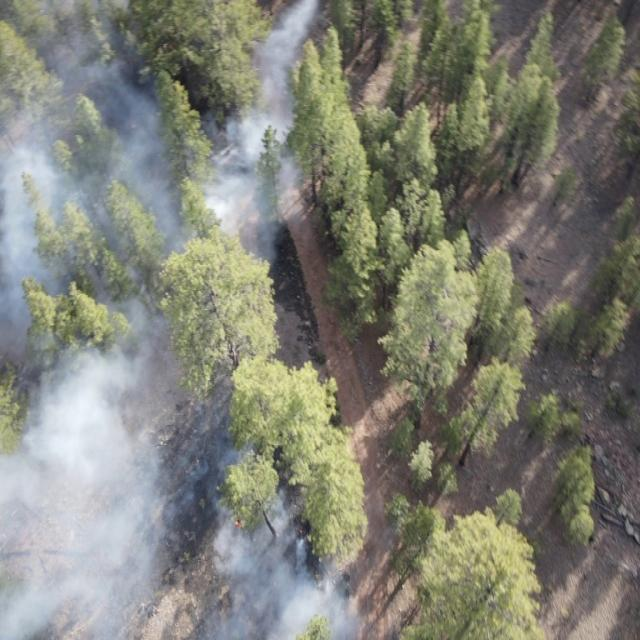fire: (230, 516, 243, 532), (296, 528, 307, 540), (130, 122, 136, 130)
smoke: (0, 0, 333, 240), (0, 462, 365, 640), (0, 242, 291, 462)
